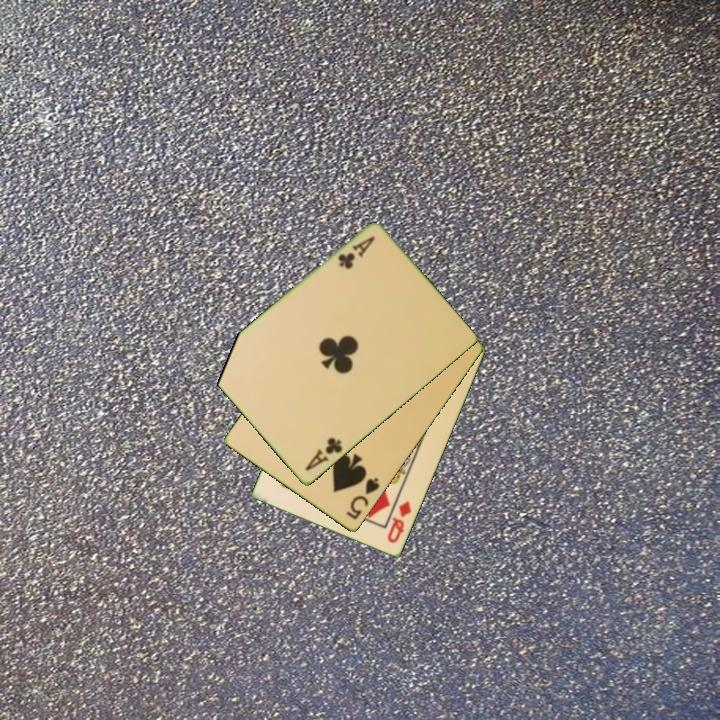5s: (343, 474, 383, 523)
Ac: (302, 434, 345, 475), (334, 233, 378, 273)
Qd: (384, 497, 415, 547)
